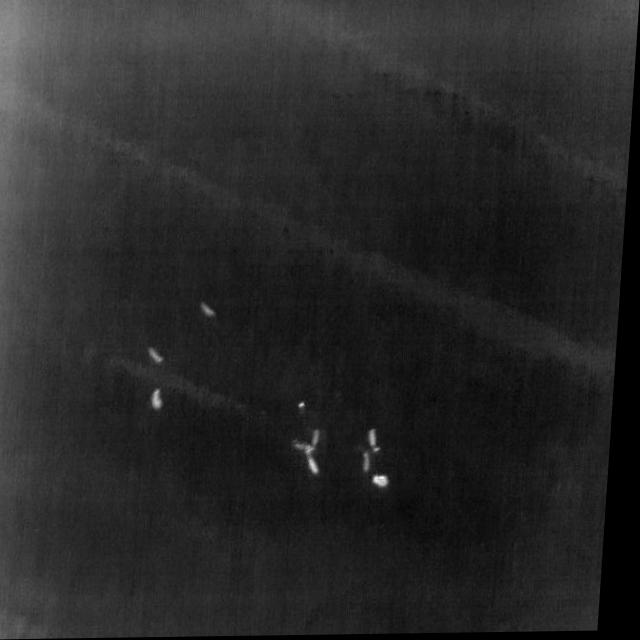deer: (297, 438, 324, 454), (310, 454, 326, 476), (372, 430, 387, 453), (151, 346, 168, 363), (154, 390, 168, 410), (204, 302, 220, 317), (367, 454, 378, 473), (379, 476, 395, 488), (318, 430, 327, 447)
